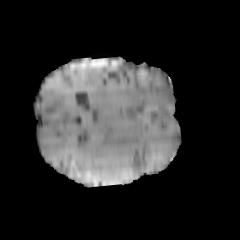glioma: (74, 125, 146, 183)
